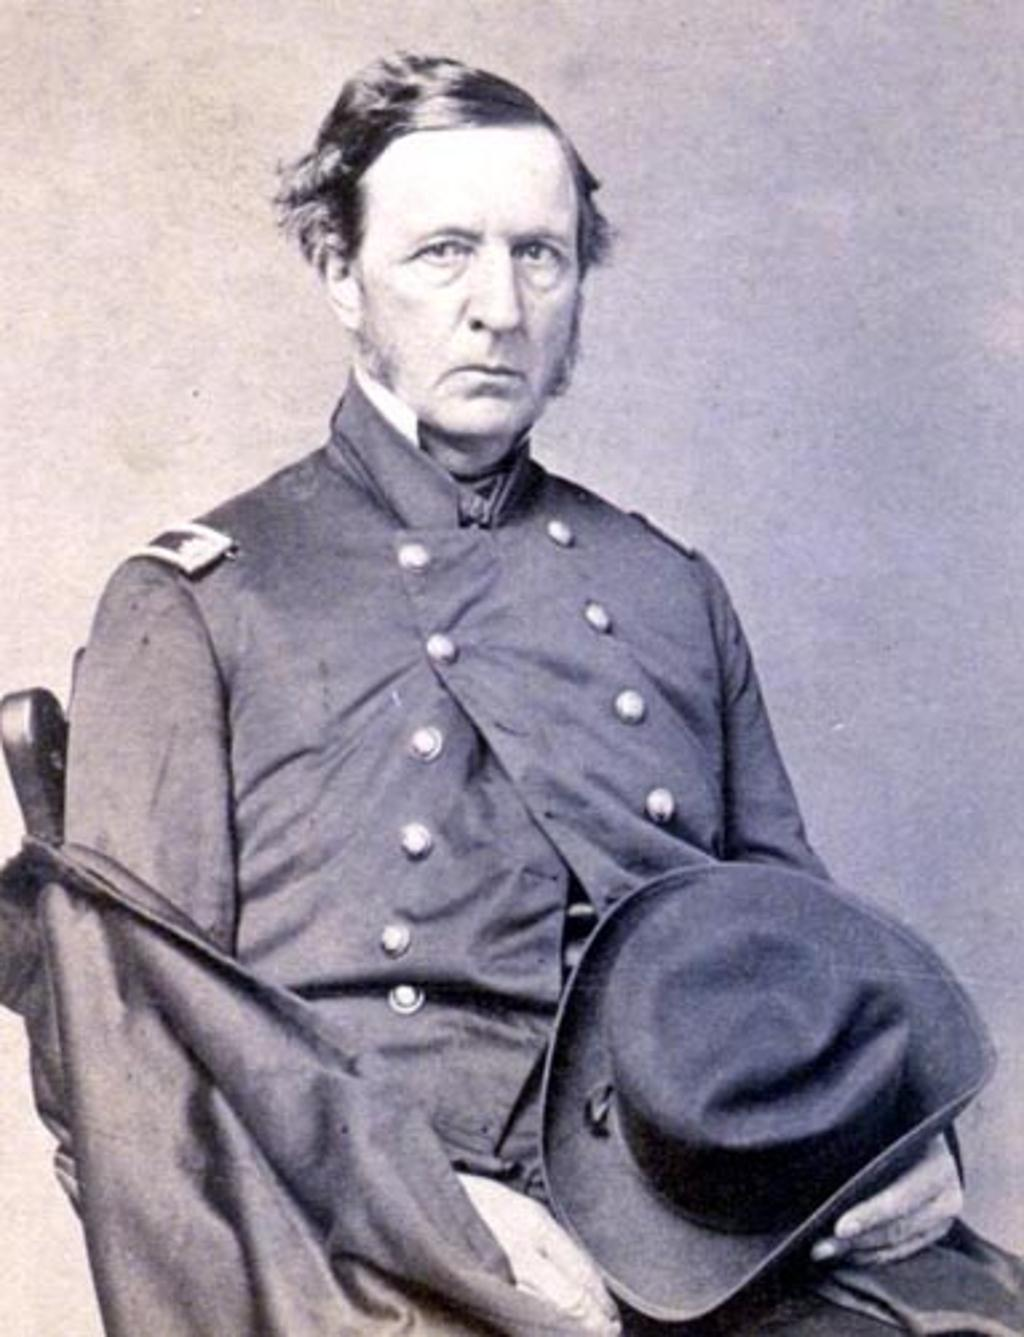face: (355, 128, 577, 439)
